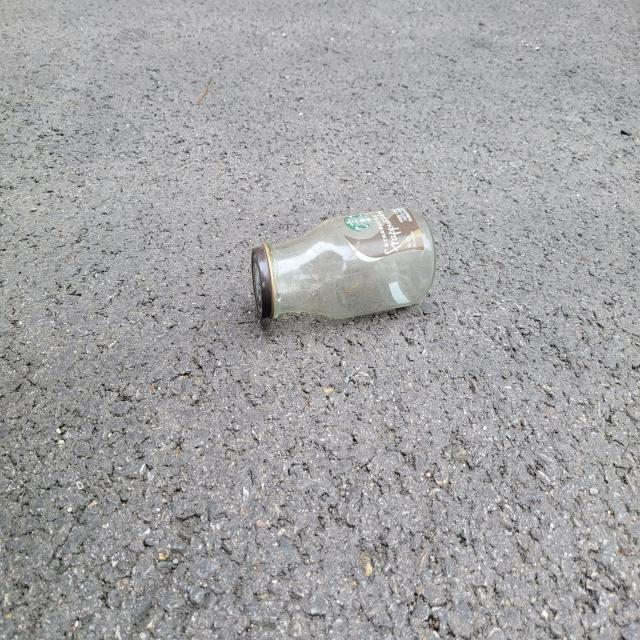glass: (251, 207, 436, 318)
